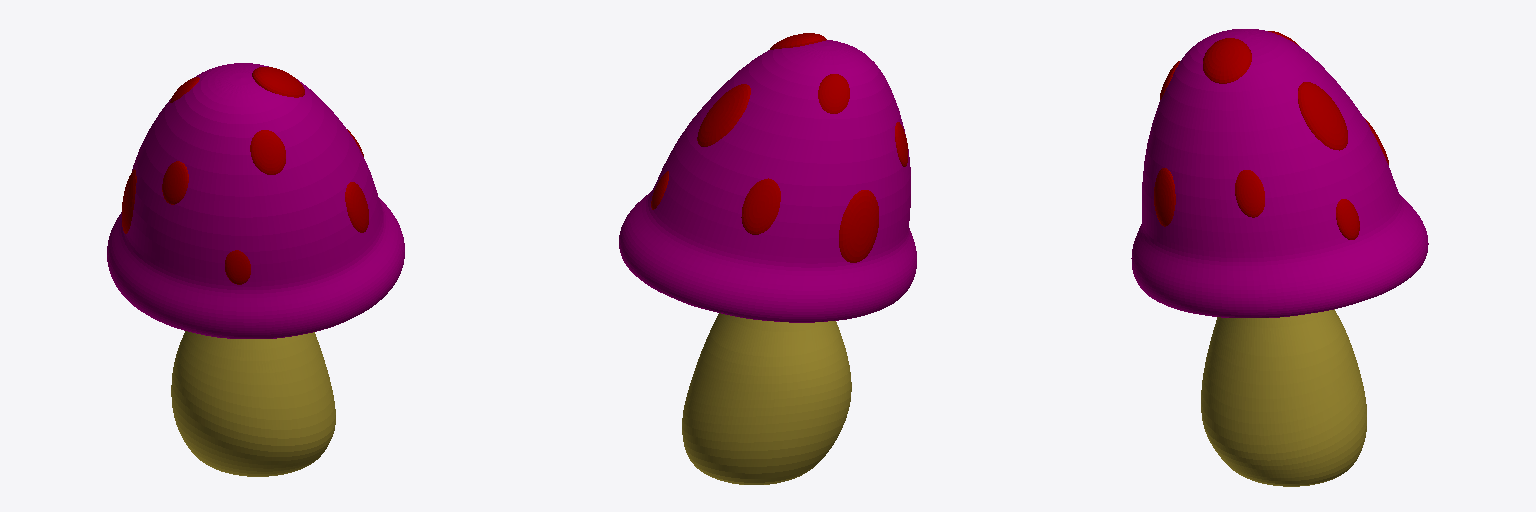
The model's file is powerup_range.obj.
3 views of the same model, side by side, from view 1: azimuth 30°, elevation 25°; view 2: azimuth 150°, elevation 25°; view 3: azimuth 270°, elevation 25° (orthographic).
Parts seen in each view (by area): view 1: Mushroom_Cylinder.001; view 2: Mushroom_Cylinder.001; view 3: Mushroom_Cylinder.001.
Part boxes in pixels (left/top/right/bottom): Mushroom_Cylinder.001: left=107, top=63, right=404, bottom=476; Mushroom_Cylinder.001: left=619, top=33, right=916, bottom=484; Mushroom_Cylinder.001: left=1131, top=29, right=1428, bottom=486.
Size of the model in its own units: 4.59 by 7.02 by 4.57.